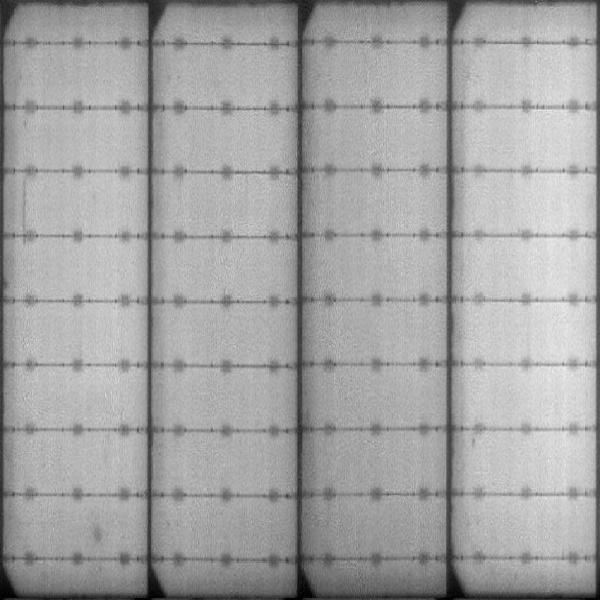scratch: (17, 179, 31, 234)
